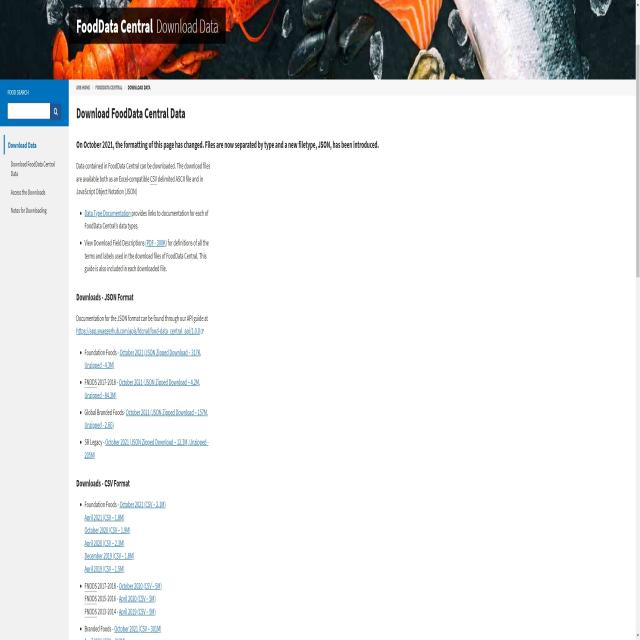search: (4, 102, 64, 123)
tab-bar: (76, 81, 152, 92)
